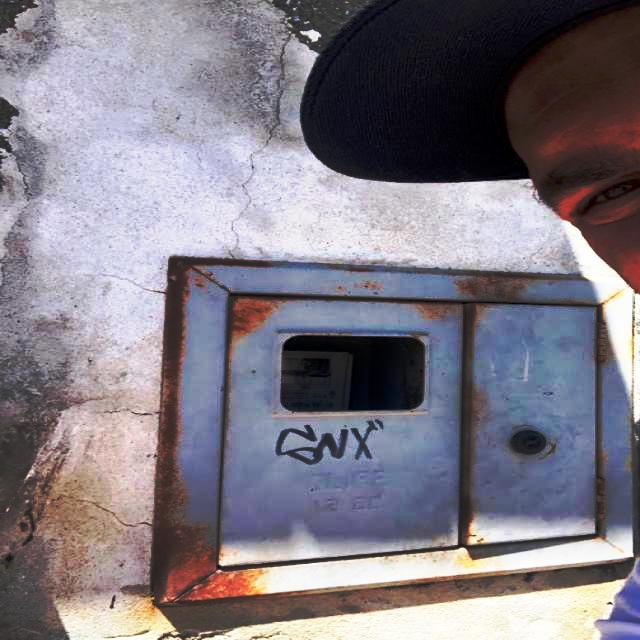Corrosion: (150, 256, 282, 610), (456, 303, 491, 553), (222, 295, 285, 351), (447, 271, 538, 301), (584, 475, 612, 526), (595, 318, 616, 372), (348, 266, 386, 273)
